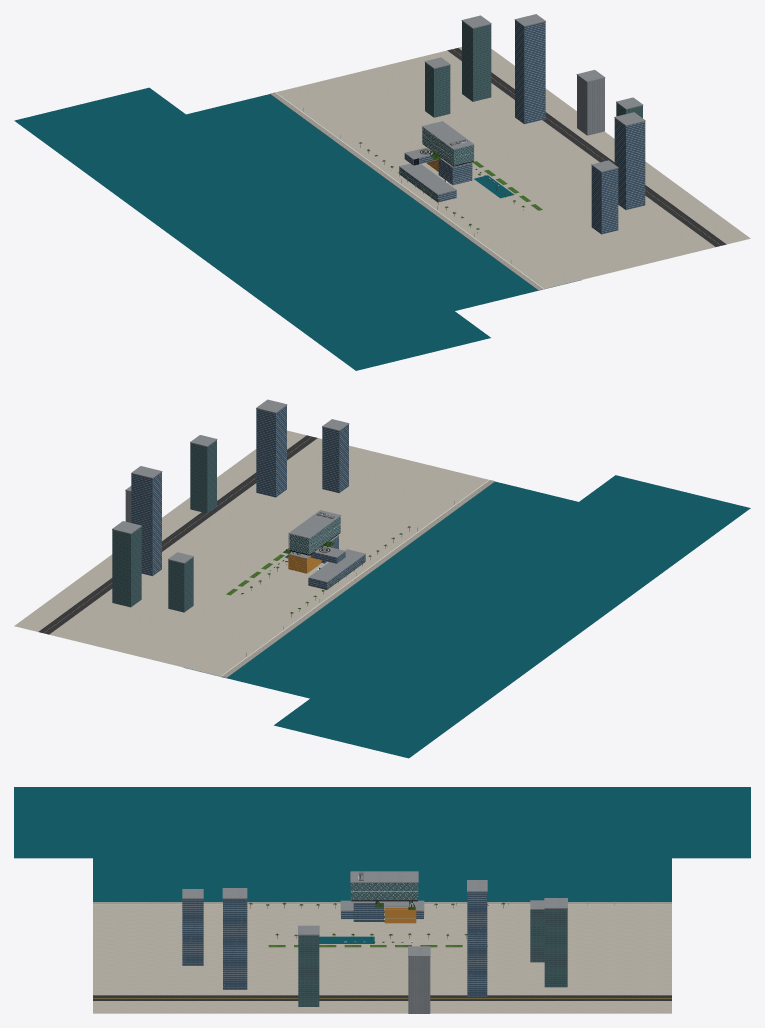
File: cleveland-clinic.glb
3 views of the same model, one above another, from view 1: azimuth 30°, elevation 25°; view 2: azimuth 150°, elevation 25°; view 3: azimuth 270°, elevation 25° (orthographic). The views are drawn at different scales.
Parts seen in each view (by area): view 1: Ground, Context, Tower, Podium; view 2: Ground, Context, Tower, Podium; view 3: Ground, Context, Tower, Lattice, Podium.
Boxes of the visible parts, <box> form: Ground: <box>186,47,750,310</box>; Context: <box>14,14,645,370</box>; Tower: <box>404,121,474,185</box>; Podium: <box>399,163,456,202</box>; Ground: <box>14,430,578,698</box>; Context: <box>112,399,750,758</box>; Tower: <box>288,510,345,573</box>; Podium: <box>308,549,365,589</box>; Ground: <box>93,858,671,1013</box>; Context: <box>14,787,750,1013</box>; Tower: <box>350,871,418,923</box>; Lattice: <box>350,872,417,900</box>; Podium: <box>340,900,424,921</box>.
Bounding box in the file's own units: 1021 × 223 × 1400.
30 materials, 17 textured.
